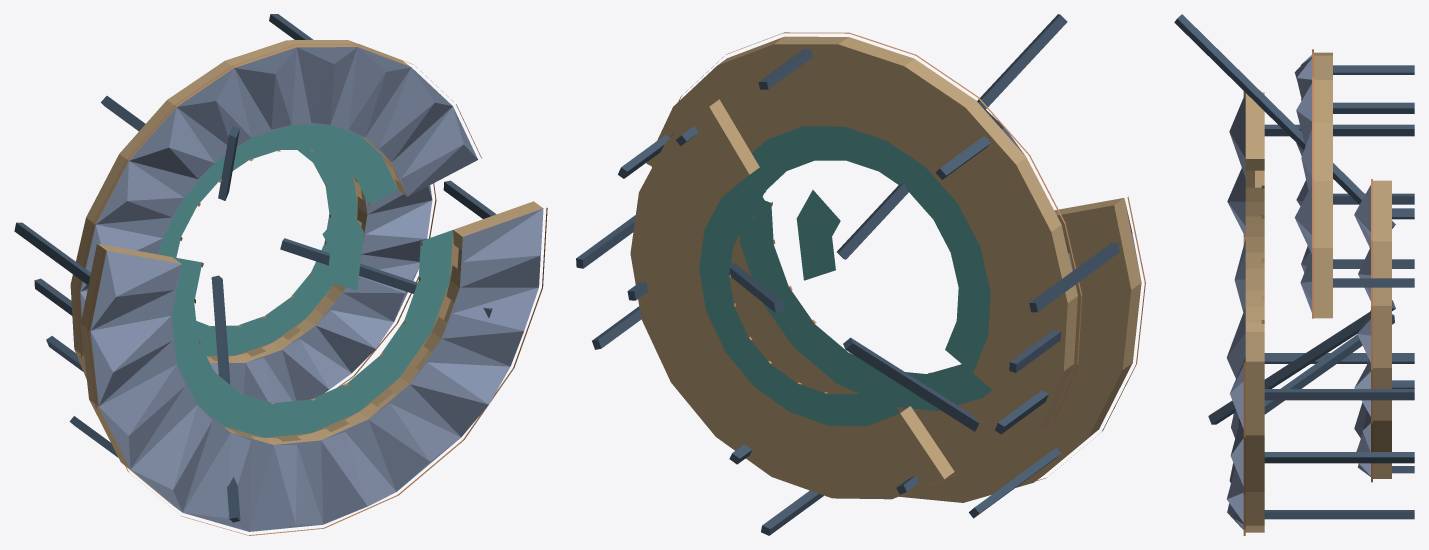
3 renders of one model, left to right at view 1: azimuth 30°, elevation 25°; view 2: azimuth 150°, elevation 25°; view 3: azimuth 270°, elevation 25°, orthographic. The views are drawn at different scales.
Size of the model in its own units: 226 by 215 by 106.
